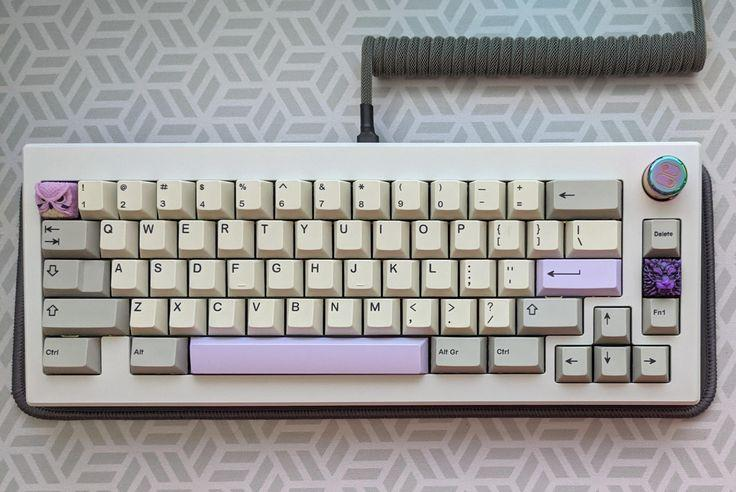keyboard: (14, 140, 713, 419)
